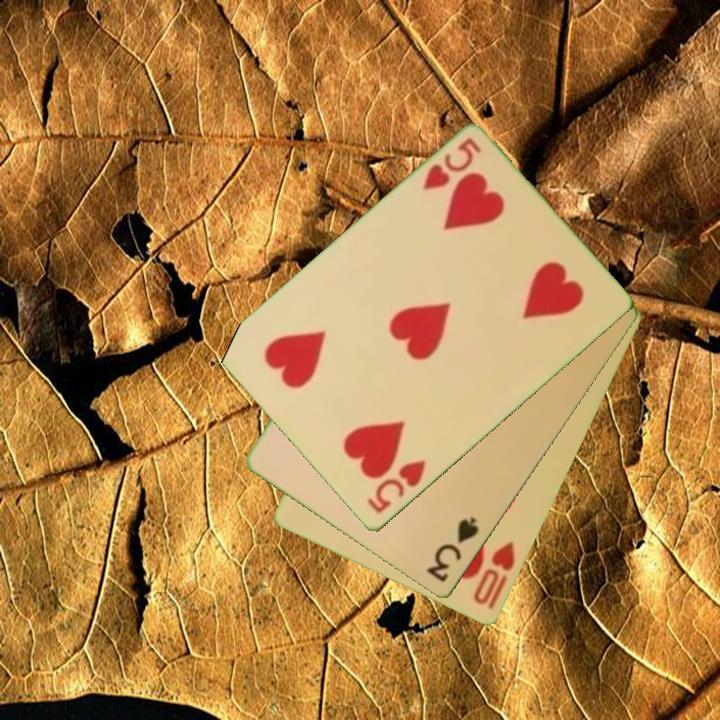10h: (470, 538, 518, 613)
3s: (423, 514, 483, 586)
5h: (363, 456, 429, 517), (418, 134, 484, 194)
